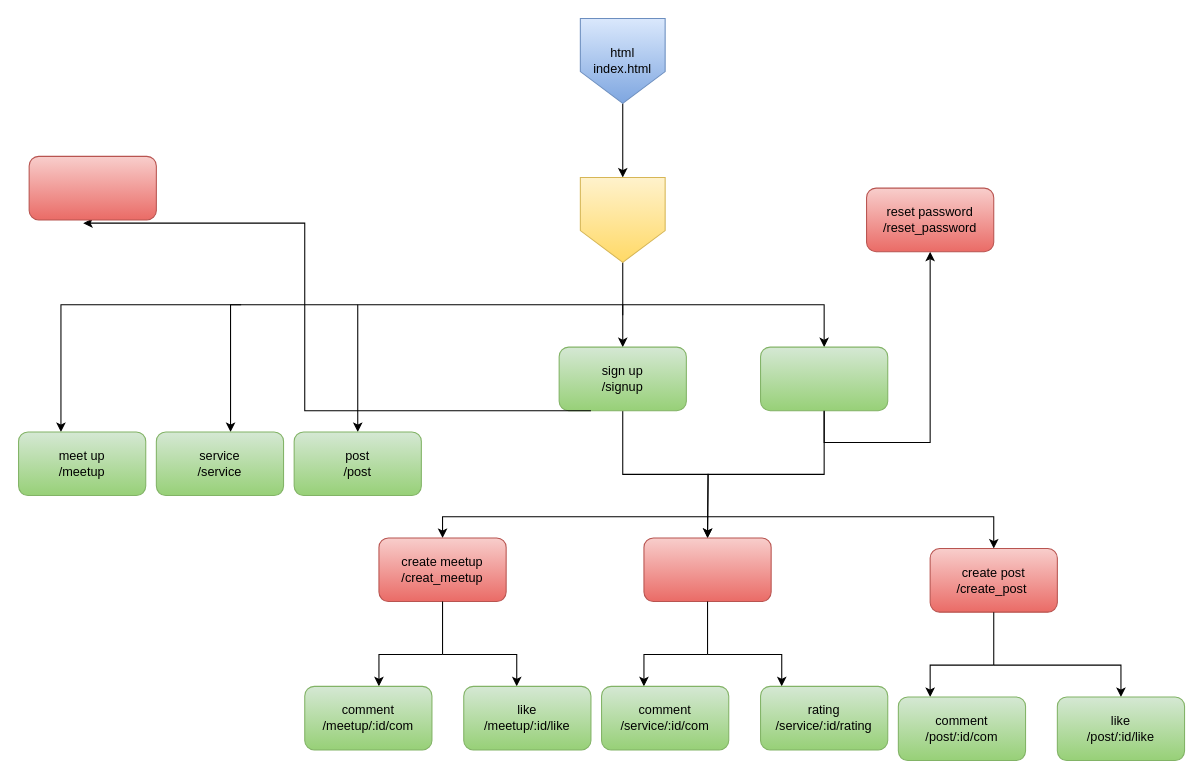
Some shapes in this 1203 by 779 pixel diagram are drawn without their labels. The shapes that lost their labels are listed below. From the top down, each one's box as (x1, y1, x2, y2) in pixels, then its label:
(28, 155, 156, 220): verify email /verify_email
(579, 176, 665, 262): APP index.js
(759, 346, 888, 411): login /login
(643, 537, 771, 602): create service /creat_service
